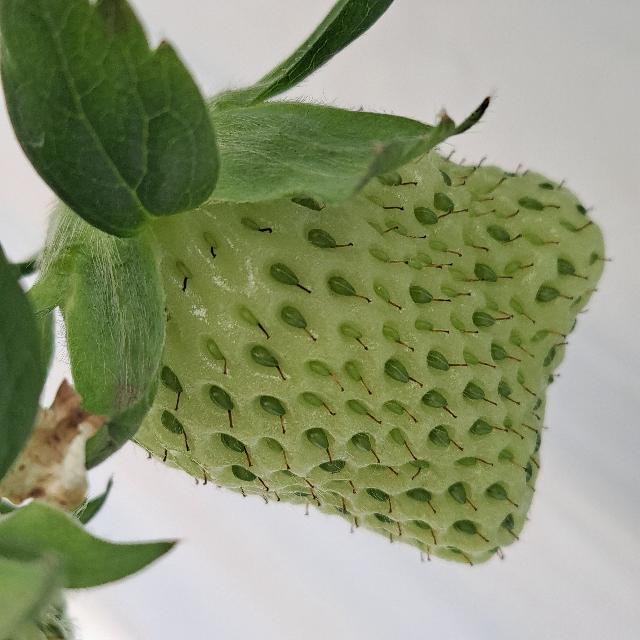Health_25: (128, 148, 606, 564)
